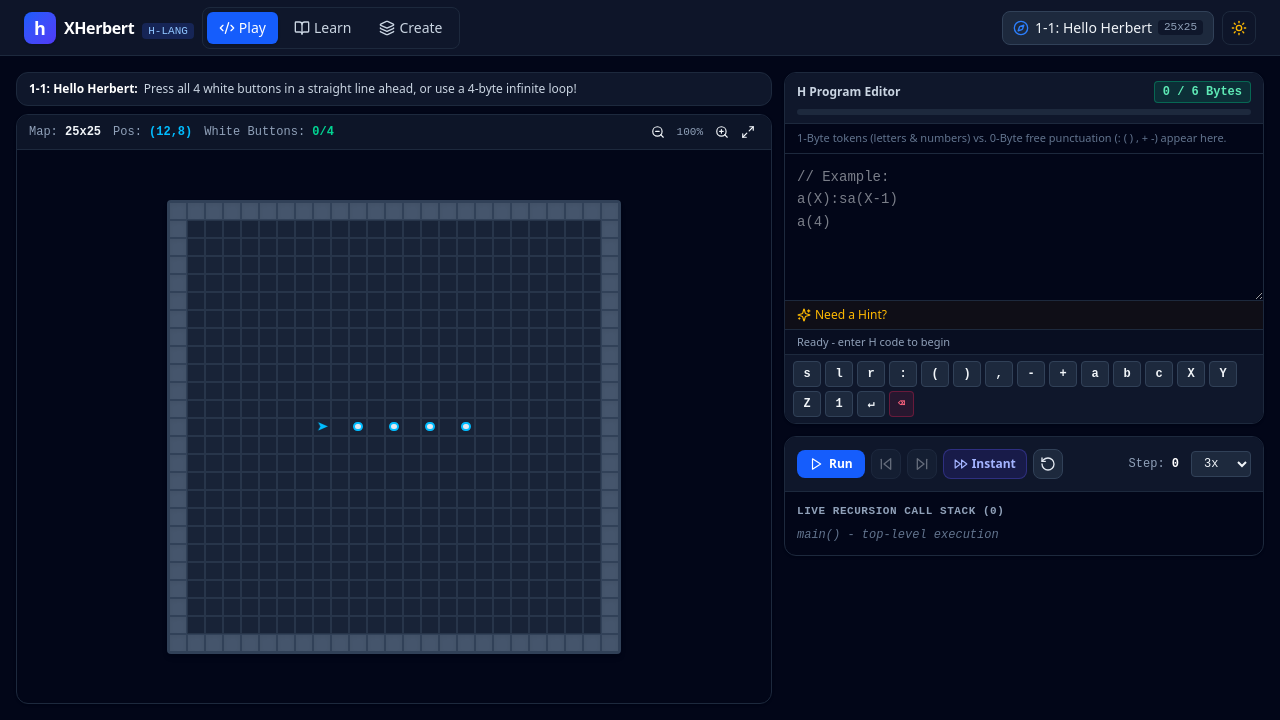
Test: XHerbert Full UI Integration Tests (Play, Learn, Create & Theme) › navigates to Learn mode, views the Cheat Sheet tab, loads sample solution, and completes a tutorial lesson
Step 1. Click the button with test id "nav-learn" → (323, 28), box x1=282 y1=12 x2=363 y2=44
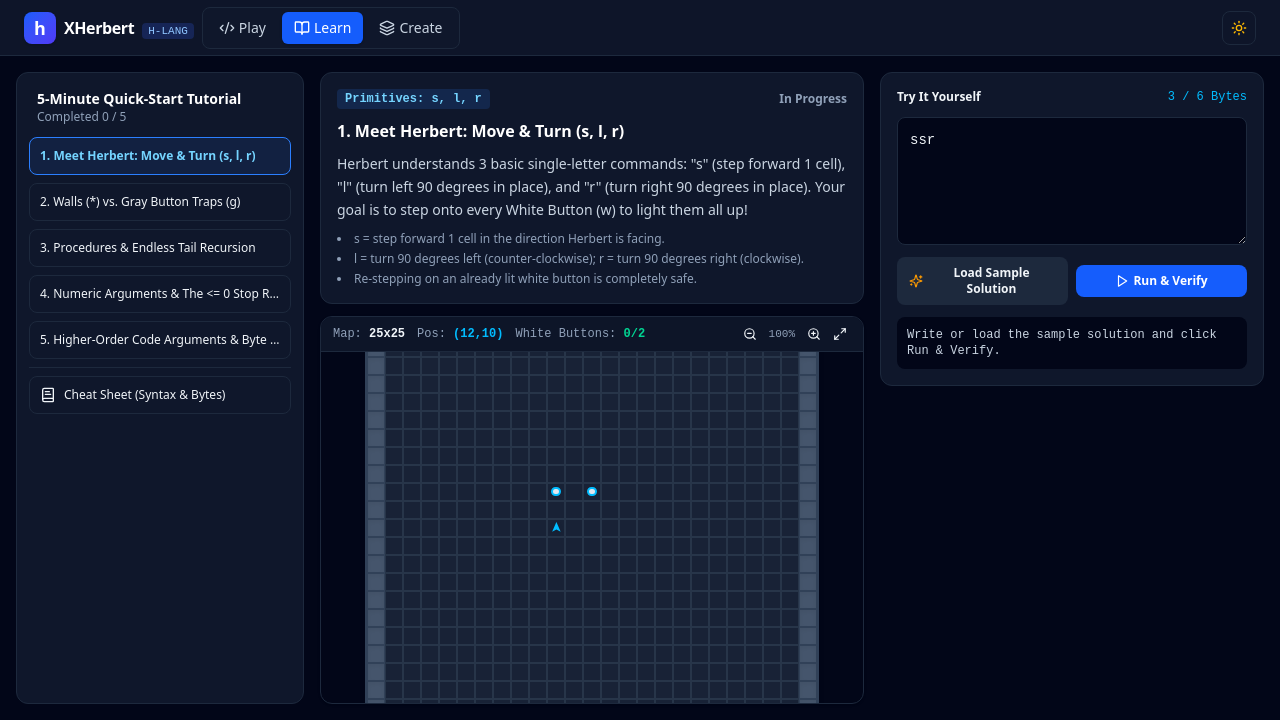
Expected: the element with test id "tutorial-workspace" is shown
Step 2. Click the button with test id "tutorial-cheatsheet-tab" → (160, 395), box x1=29 y1=376 x2=291 y2=414
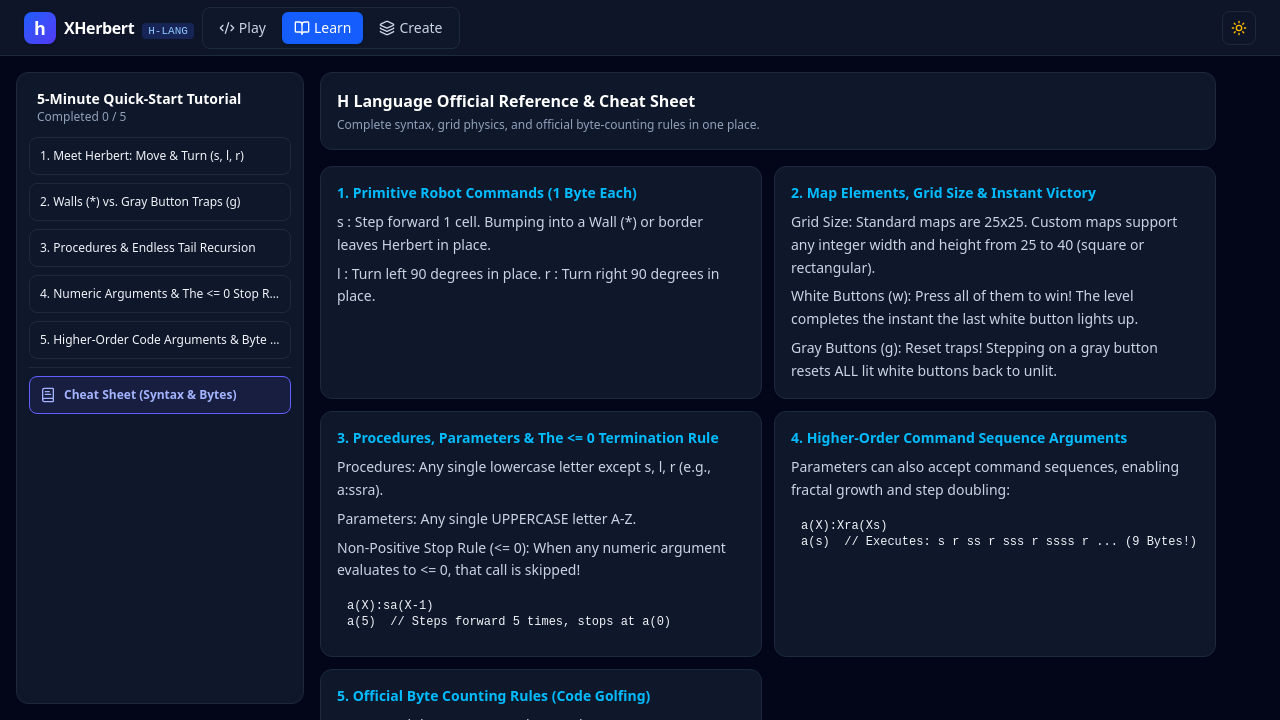
Expected: the element with test id "learn-cheatsheet-panel" is shown
Step 3. Click the button with test id "tutorial-tab-1" → (160, 156), box x1=29 y1=137 x2=291 y2=175
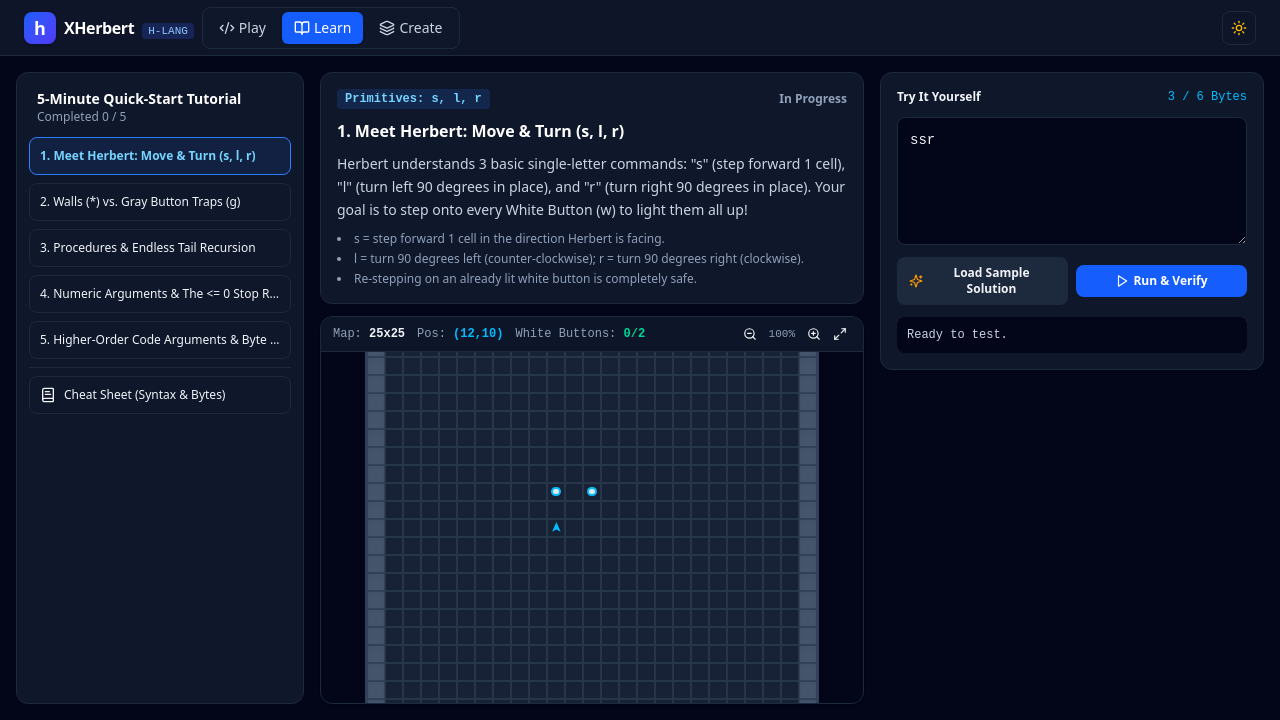
Step 4. Click the button with test id "tutorial-use-solution" → (982, 281), box x1=897 y1=257 x2=1068 y2=305
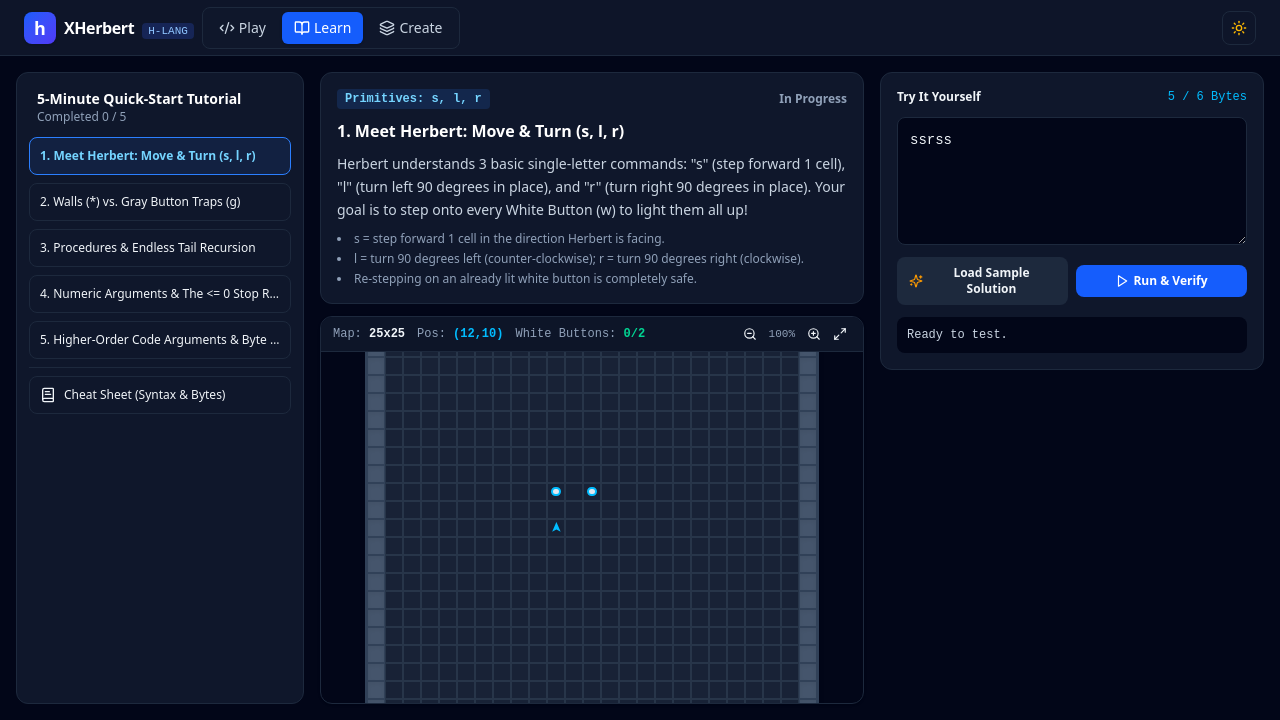
Step 5. Click the button with test id "tutorial-run-verify" → (1162, 281), box x1=1076 y1=265 x2=1247 y2=297
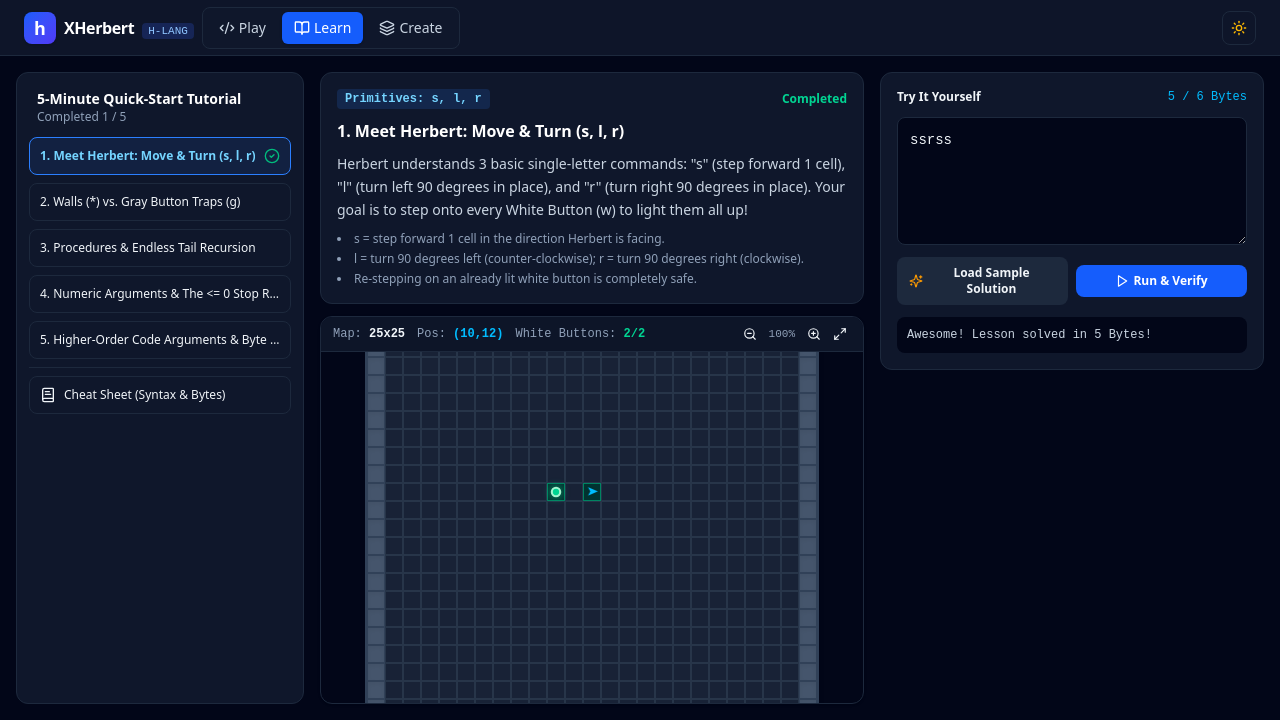
Expected: the text with test id "tutorial-lesson-status" reads "Completed", x1=782 y1=90 x2=847 y2=107
